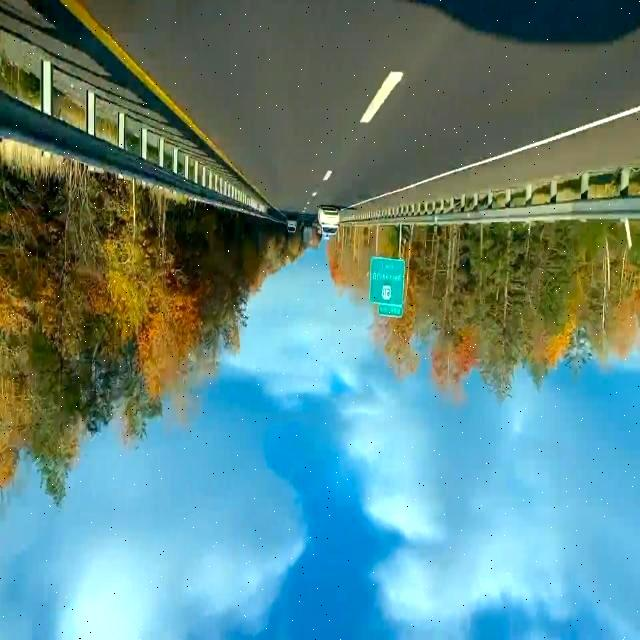lane: (60, 1, 247, 182), (345, 106, 640, 208), (361, 72, 402, 122), (324, 171, 332, 181)
road: (81, 1, 639, 212)
